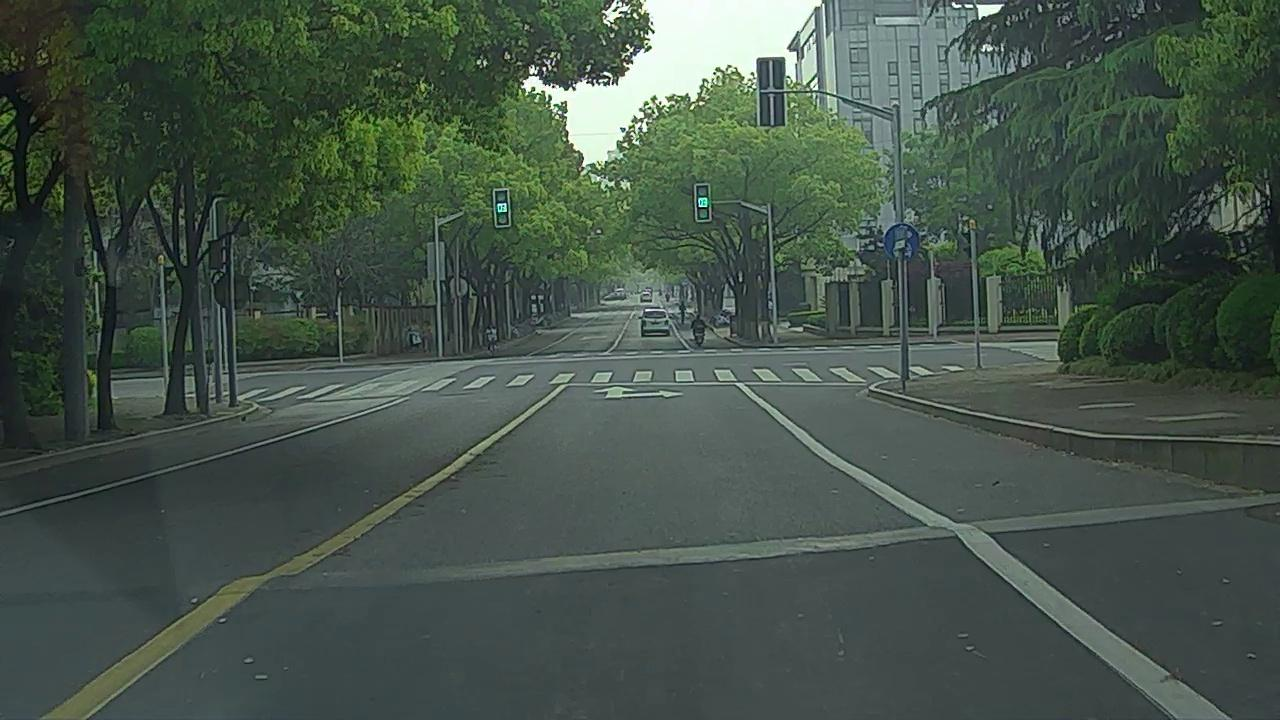traffic_light: (696, 186, 710, 223), (494, 191, 509, 225)
